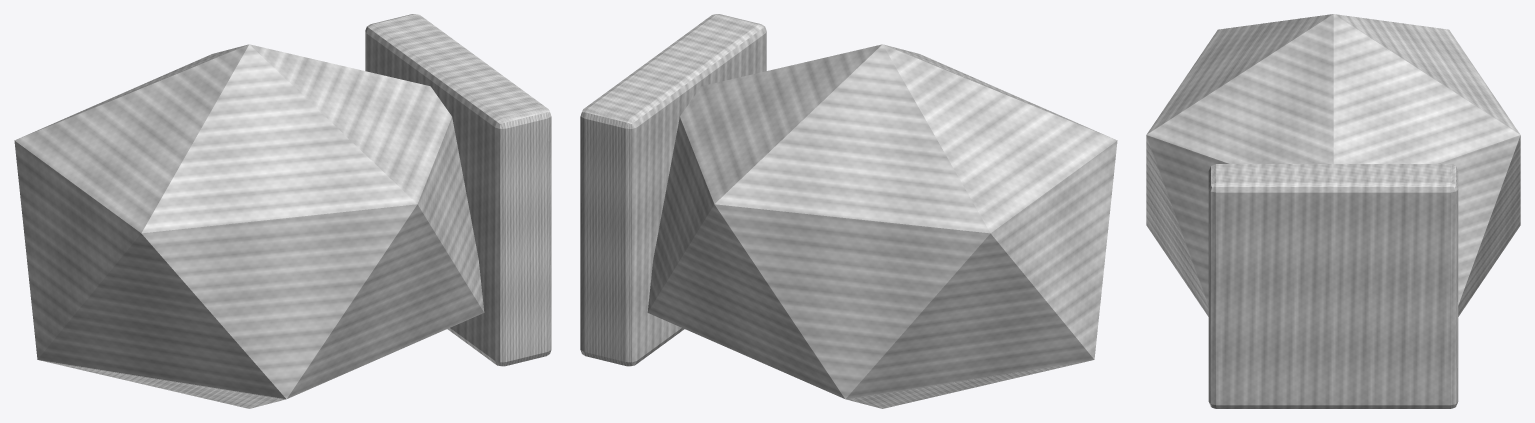
Rendered from item-concrete_variant_b.glb.
The picture shows the model from 3 angles, left to right: view 1: azimuth 30°, elevation 25°; view 2: azimuth 150°, elevation 25°; view 3: azimuth 270°, elevation 25°; orthographic projection. The views are drawn at different scales.
Visible parts, largest first — view 1: Material chunk.001, Variant reinforcement; view 2: Material chunk.001, Variant reinforcement; view 3: Variant reinforcement, Material chunk.001.
Part boxes in pixels (x1,y1,x2,y2): Material chunk.001: (14, 44, 484, 408); Variant reinforcement: (365, 14, 551, 366); Material chunk.001: (647, 44, 1117, 408); Variant reinforcement: (580, 14, 766, 366); Variant reinforcement: (1208, 164, 1458, 408); Material chunk.001: (1146, 14, 1520, 316).
Size of what is drawn, in the model's own units: 0.6441 by 0.5 by 0.5104.
2 materials, 2 textured.
